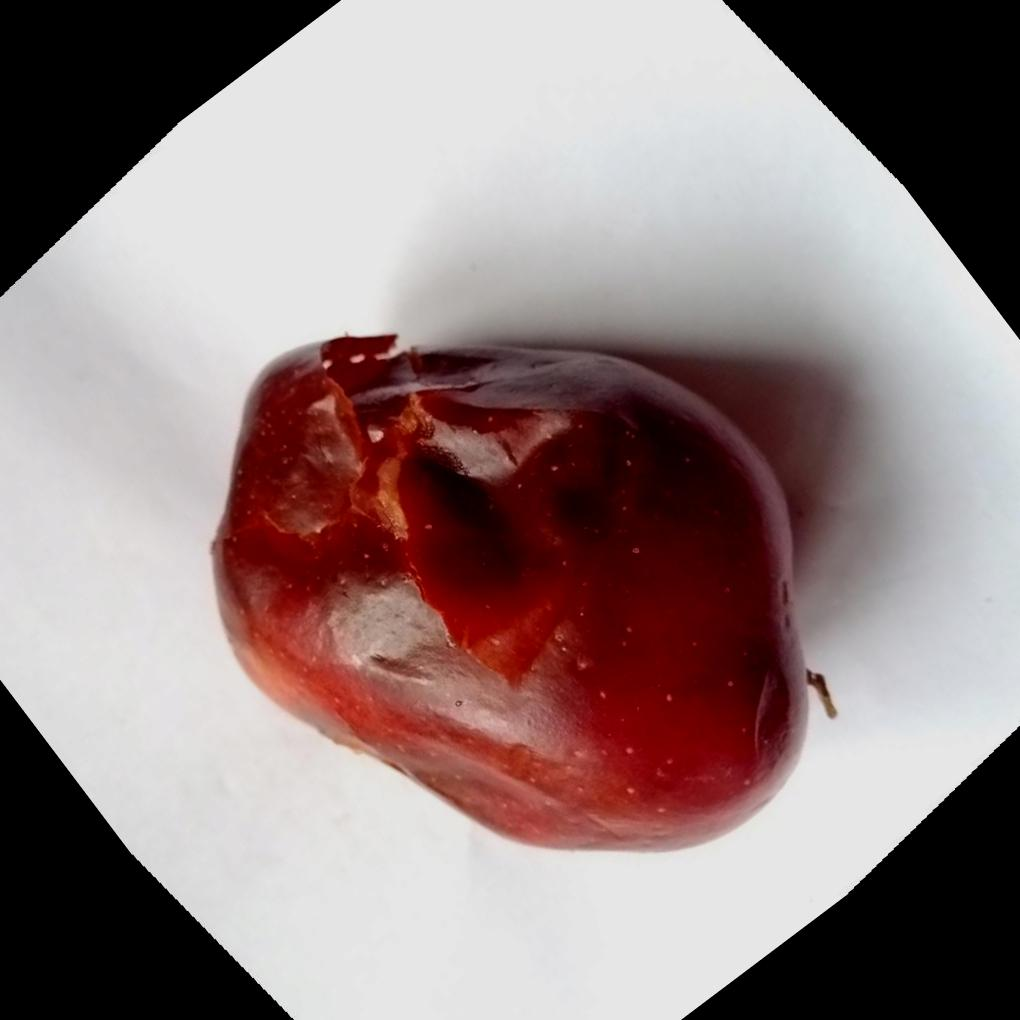FreshOrange: (206, 330, 834, 853)
